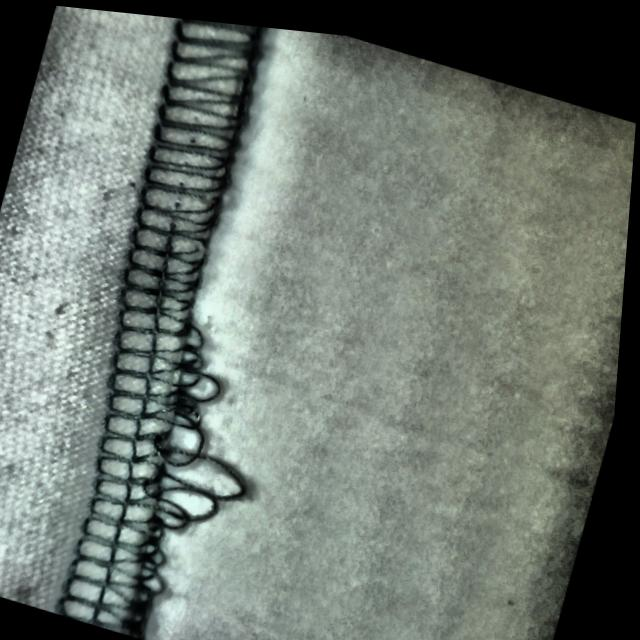Stitch: (49, 296, 291, 640)
